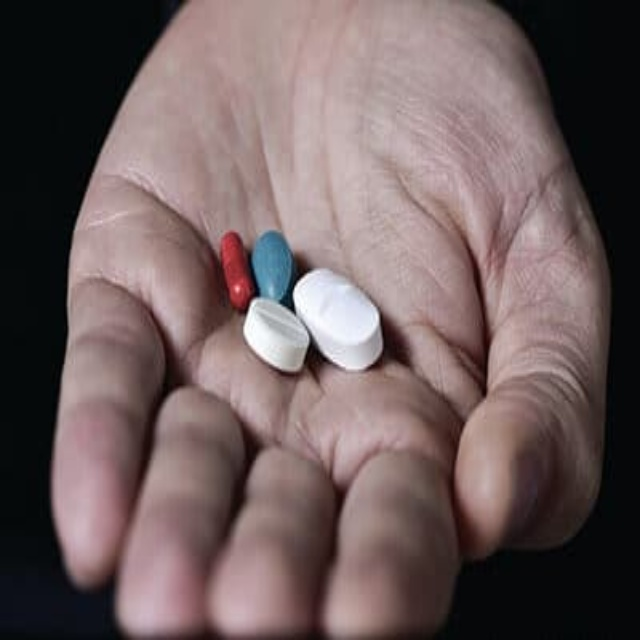pill: (183, 111, 240, 154), (153, 123, 194, 155), (157, 95, 185, 127), (137, 97, 158, 128)
